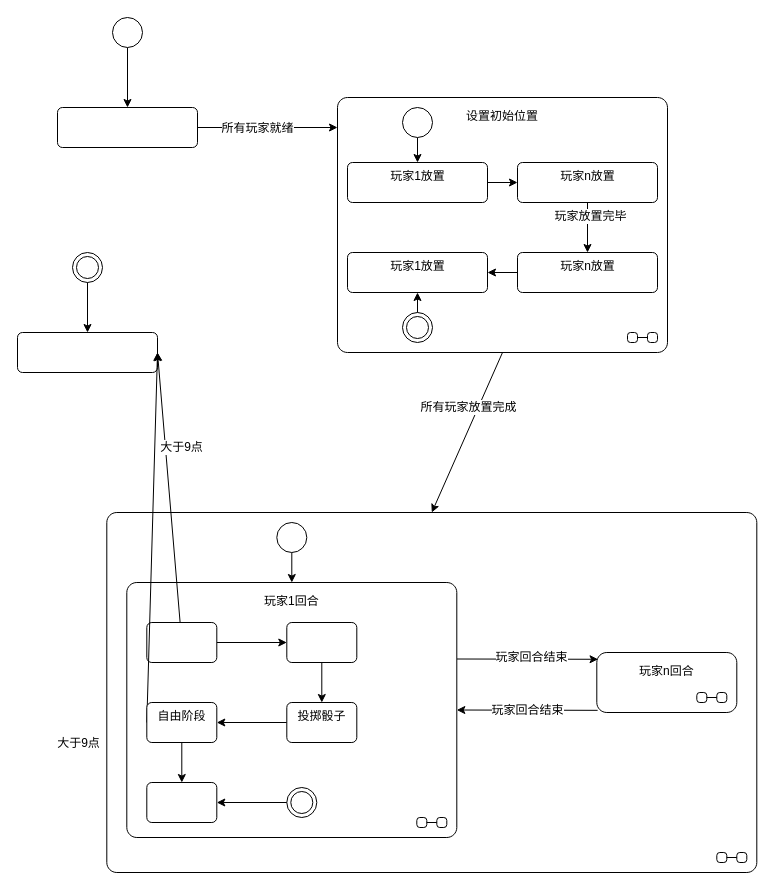
The diagram is 775 pixels wide and 890 high, and some of its shapes have lost their labels. Here are the shapes that lost their labels. From the top down, the centre of each, then its label:
[127,127]: 初始状态
[87,352]: 游戏结束
[181,642]: 检查点数
[321,642]: 特殊出卡
[181,802]: 结束
